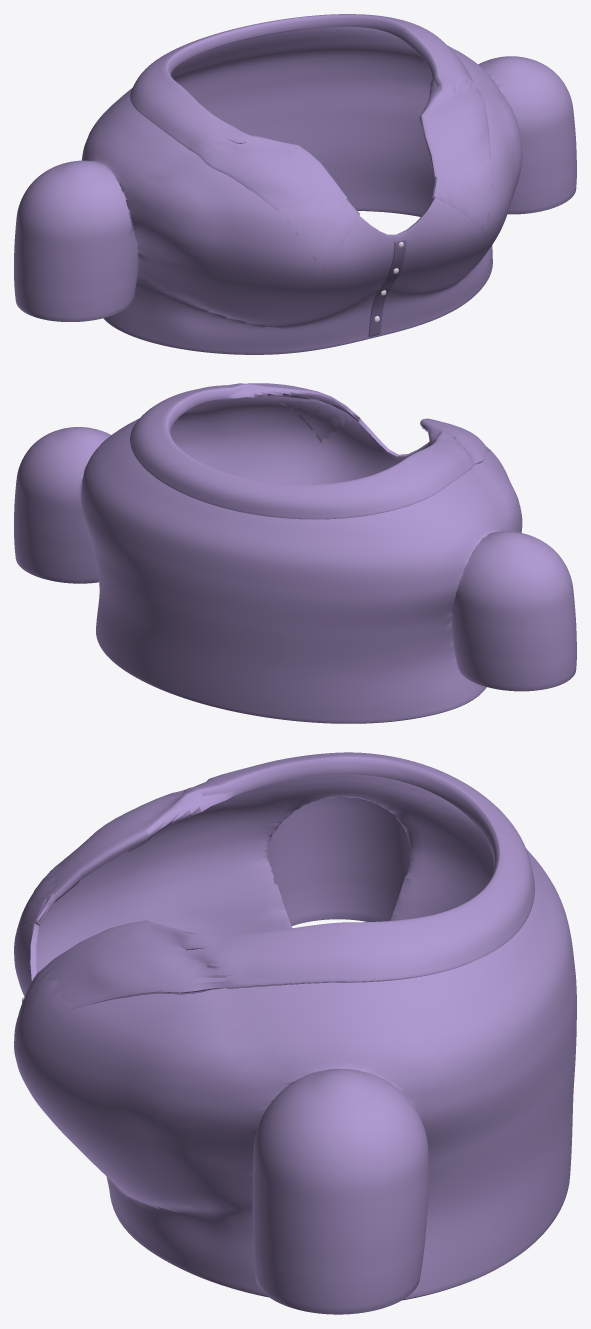
The model's file is Feminine-open-top.glb.
The picture shows the model from 3 angles, top to bottom: view 1: azimuth 30°, elevation 25°; view 2: azimuth 150°, elevation 25°; view 3: azimuth 270°, elevation 25°; orthographic projection. The views are drawn at different scales.
Visible parts, largest first — view 1: Clothing / joined open186, Button-up / lower closed placket; view 2: Clothing / joined open186; view 3: Clothing / joined open186.
Part boxes in pixels (<box>): Clothing / joined open186: <box>14,14,576,354</box>; Button-up / lower closed placket: <box>368,238,406,336</box>; Clothing / joined open186: <box>14,383,576,723</box>; Clothing / joined open186: <box>14,752,576,1314</box>.
Size of the model in its own units: 0.9262 by 0.3605 by 0.5522.
